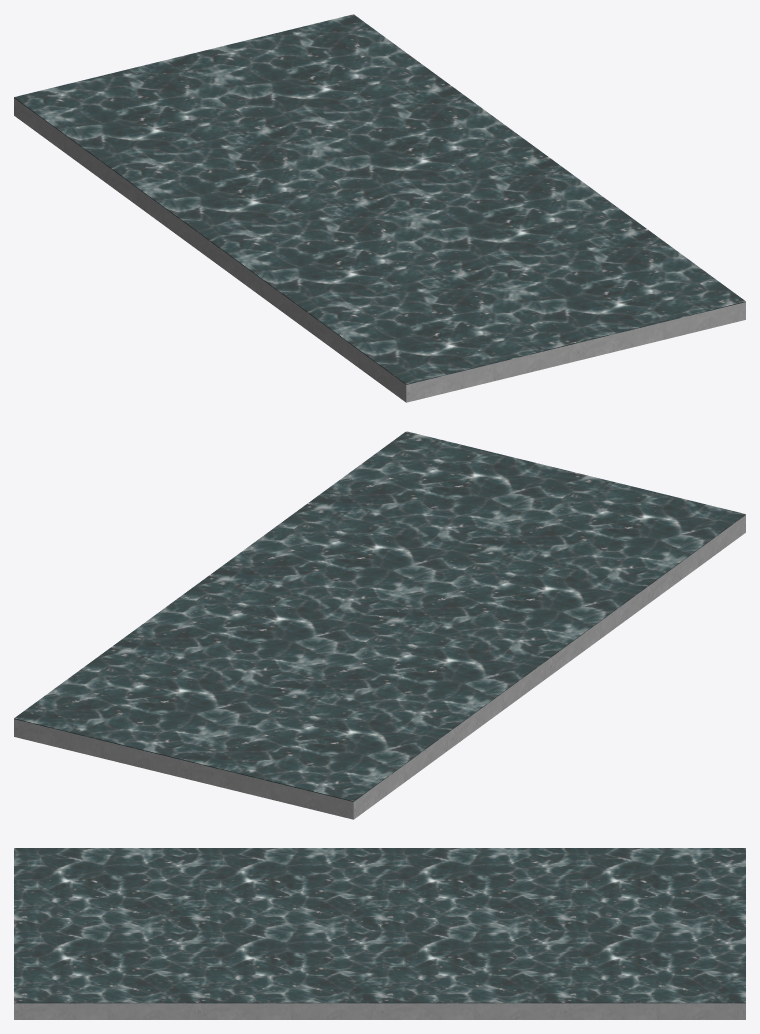
The model's file is ice.gltf.
The picture shows the model from 3 angles, top to bottom: view 1: azimuth 30°, elevation 25°; view 2: azimuth 150°, elevation 25°; view 3: azimuth 270°, elevation 25°; orthographic projection. The views are drawn at different scales.
Visible parts, largest first — view 1: ice-RS Standard (×2), ice-Concrete; view 2: ice-RS Standard (×2), ice-Concrete; view 3: ice-RS Standard (×2), ice-Concrete.
Boxes of the visible parts, x1=… form: ice-RS Standard (×2): x1=14, y1=14, x2=745, y2=384; ice-Concrete: x1=14, y1=98, x2=745, y2=402; ice-RS Standard (×2): x1=14, y1=431, x2=745, y2=801; ice-Concrete: x1=14, y1=515, x2=745, y2=819; ice-RS Standard (×2): x1=14, y1=848, x2=745, y2=1003; ice-Concrete: x1=14, y1=1003, x2=745, y2=1019.
Size of the model in its own units: 1 by 0.052 by 2.
Materials: 2 (2 with a texture image).
